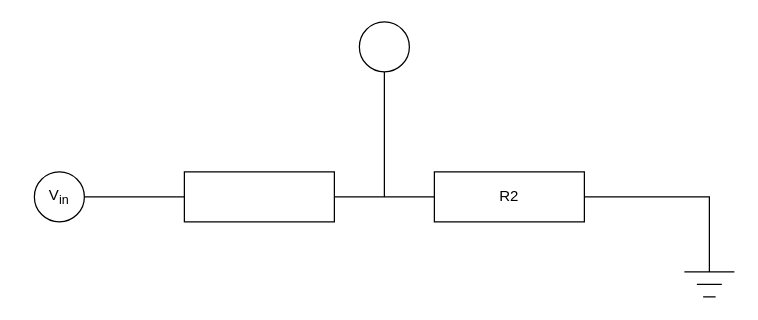
The diagram is 758 pixels wide and 320 high, and some of its shapes have lost their labels. Here are the shapes that lost their labels. From the top down, the box of each, then its label:
(358, 21, 409, 72): V out
(183, 171, 334, 222): R1
